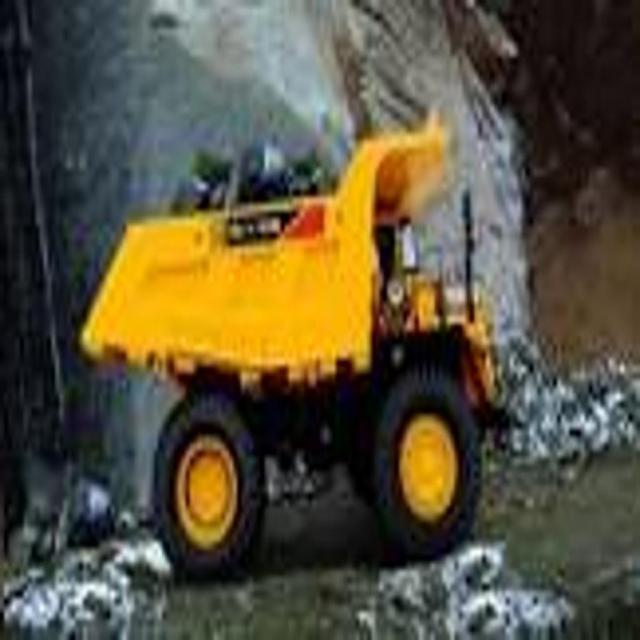dump_truck: (82, 112, 500, 588)
